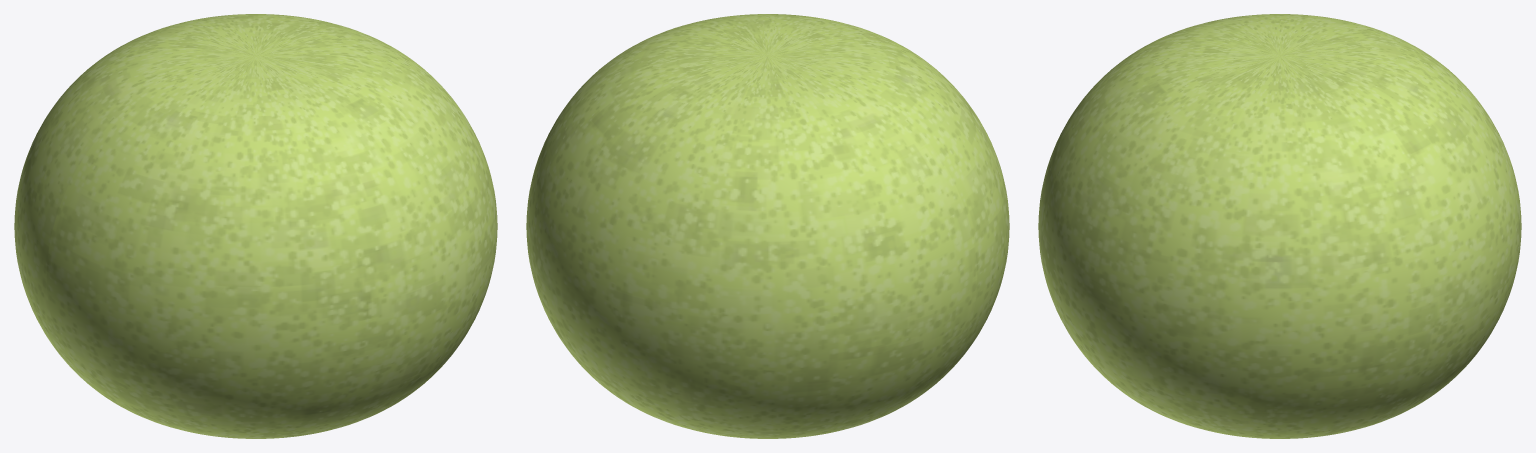
Rendered from pomelo.glb.
3 renders of one model, left to right at view 1: azimuth 30°, elevation 25°; view 2: azimuth 150°, elevation 25°; view 3: azimuth 270°, elevation 25°, orthographic.
Bounding box in the file's own units: 0.17 × 0.1324 × 0.17.
1 material, 1 textured.
